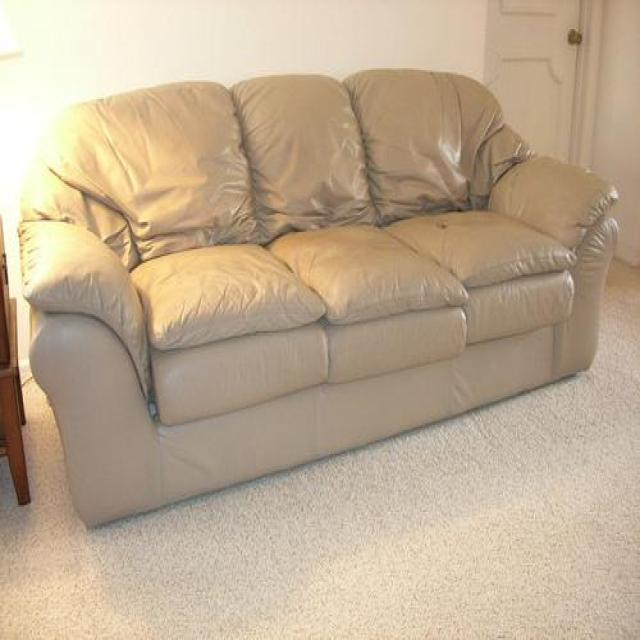sofa: (14, 62, 619, 535)
